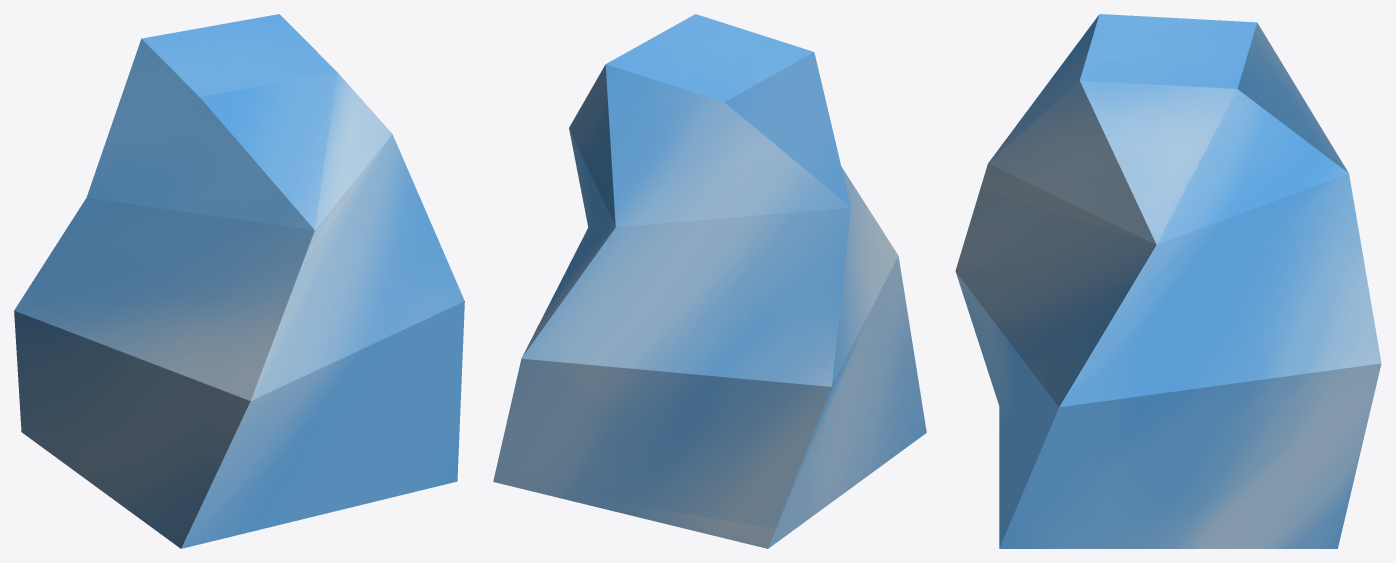
3 views of the same model, side by side, from view 1: azimuth 30°, elevation 25°; view 2: azimuth 150°, elevation 25°; view 3: azimuth 270°, elevation 25° (orthographic). The views are drawn at different scales.
Visible parts, largest first — view 1: Plane; view 2: Plane; view 3: Plane.
Part boxes in pixels (box(x1,y1,x2,y2)): Plane: box(14, 14, 464, 548); Plane: box(493, 14, 926, 548); Plane: box(955, 14, 1381, 548).
Bounding box in the file's own units: 1.43 × 1.58 × 1.43.
Materials: 1 (1 with a texture image).
